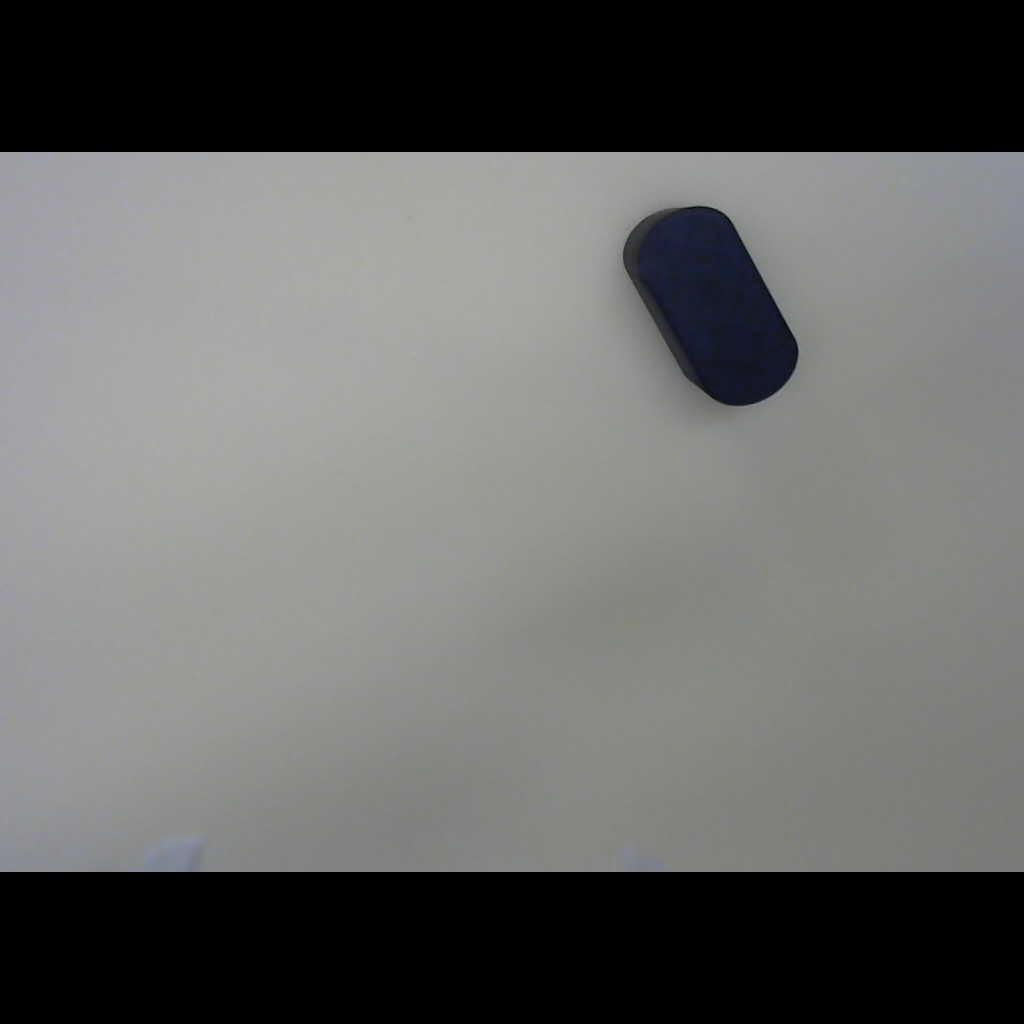oval: (596, 170, 823, 439)
